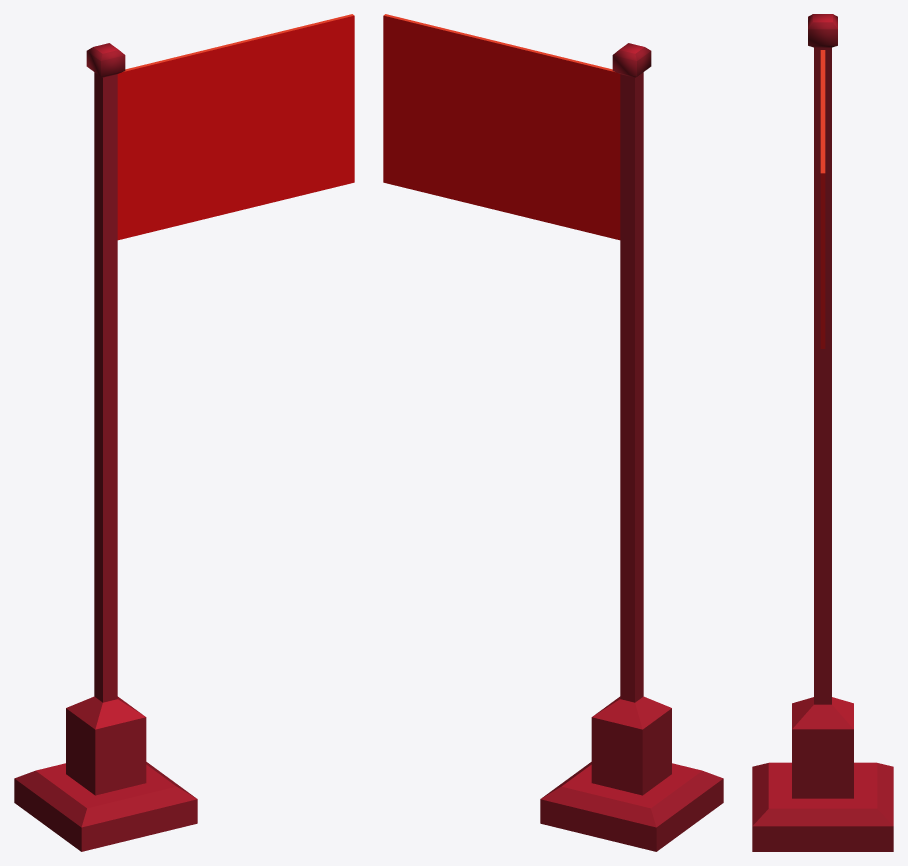
The model's file is red_flag.fbx.
3 renders of one model, left to right at view 1: azimuth 30°, elevation 25°; view 2: azimuth 150°, elevation 25°; view 3: azimuth 270°, elevation 25°, orthographic. The views are drawn at different scales.
Visible parts, largest first — view 1: red_flag, red_pole; view 2: red_flag, red_pole; view 3: red_pole, red_flag.
Boxes of the visible parts, x1,y1,x2,y2 form: red_flag: [117, 14, 354, 240]; red_pole: [14, 43, 197, 851]; red_flag: [383, 14, 620, 240]; red_pole: [540, 43, 723, 851]; red_pole: [752, 14, 893, 851]; red_flag: [820, 50, 825, 348].
Size of the model in its own units: 342 by 817 by 130.
